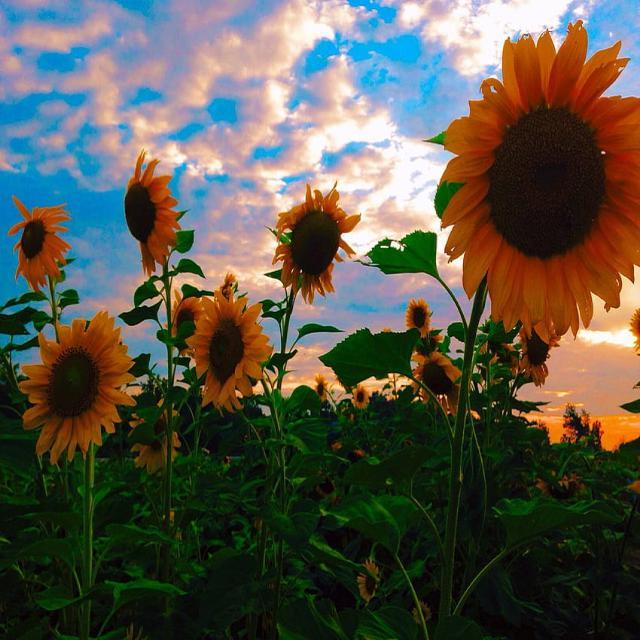sunflower: (438, 19, 640, 343), (18, 308, 137, 464), (271, 180, 361, 304), (185, 288, 272, 412), (124, 149, 181, 277), (8, 195, 72, 293), (128, 398, 180, 473), (411, 349, 461, 416), (164, 289, 204, 359), (518, 322, 560, 387), (480, 341, 518, 378), (404, 297, 432, 337), (356, 558, 380, 602), (472, 353, 504, 383), (215, 271, 238, 300), (628, 306, 640, 355), (351, 383, 369, 409), (422, 328, 443, 348), (314, 374, 328, 401), (468, 408, 480, 419)
